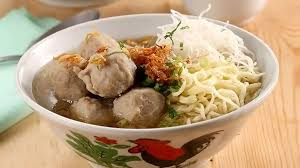Bakso sedang: (110, 88, 168, 129), (84, 51, 135, 97), (48, 55, 88, 98), (68, 96, 113, 129), (74, 31, 122, 56)
